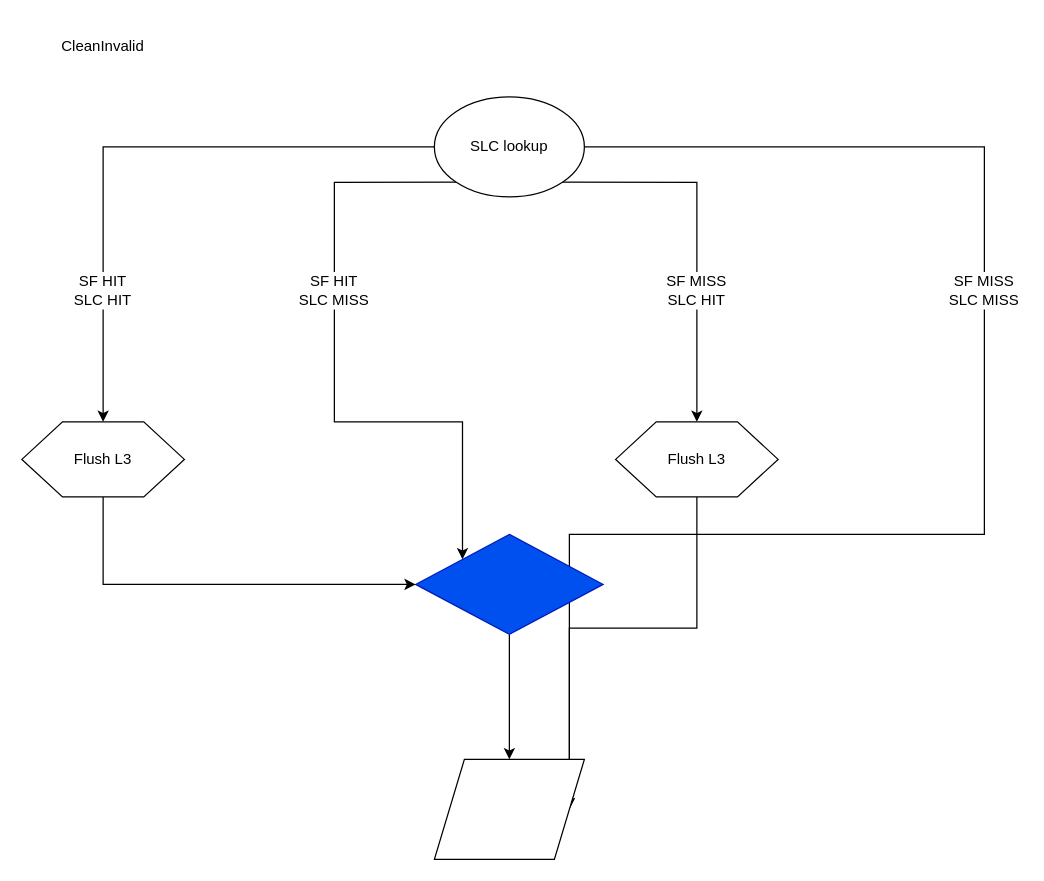
Some shapes in this 1044 by 881 pixel diagram are drawn without their labels. The centre of each missing label's shape, as x and y in pixels:
"SnpCleanInvid Graph" goes at point 508,583.
"TXCOMP" goes at point 508,808.
